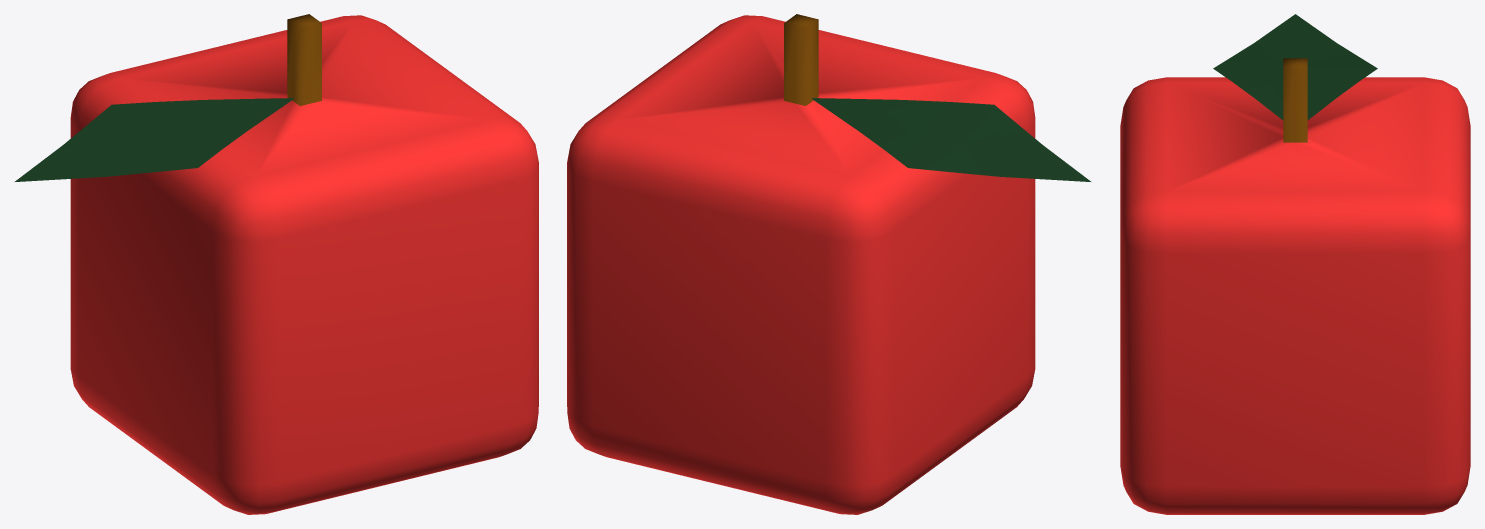
Rendered from Fruit1.fbx.
3 views of the same model, side by side, from view 1: azimuth 30°, elevation 25°; view 2: azimuth 150°, elevation 25°; view 3: azimuth 270°, elevation 25° (orthographic). The views are drawn at different scales.
Visible parts, largest first — view 1: Fruit1; view 2: Fruit1; view 3: Fruit1.
Part boxes in pixels (x1=…): Fruit1: x1=15, y1=14, x2=538, y2=514; Fruit1: x1=567, y1=14, x2=1090, y2=514; Fruit1: x1=1120, y1=14, x2=1470, y2=514.
Size of the model in its own units: 209 by 183 by 148.
